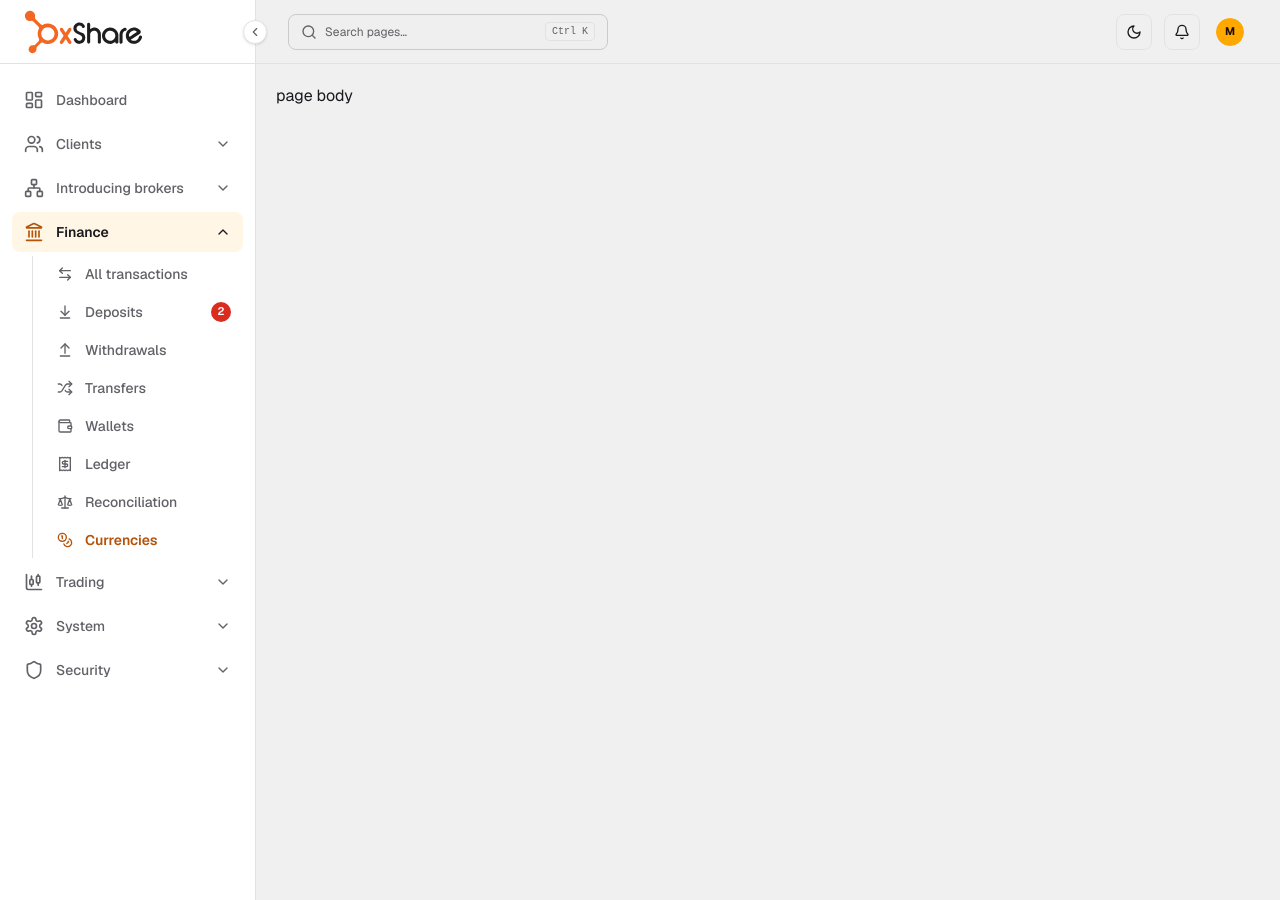
Test case: the sidebar is main items with sub-items › turns each group into a menu on the collapsed rail
Click the button named "collapse the sidebar": click(255, 32) 243,20 -> 267,44
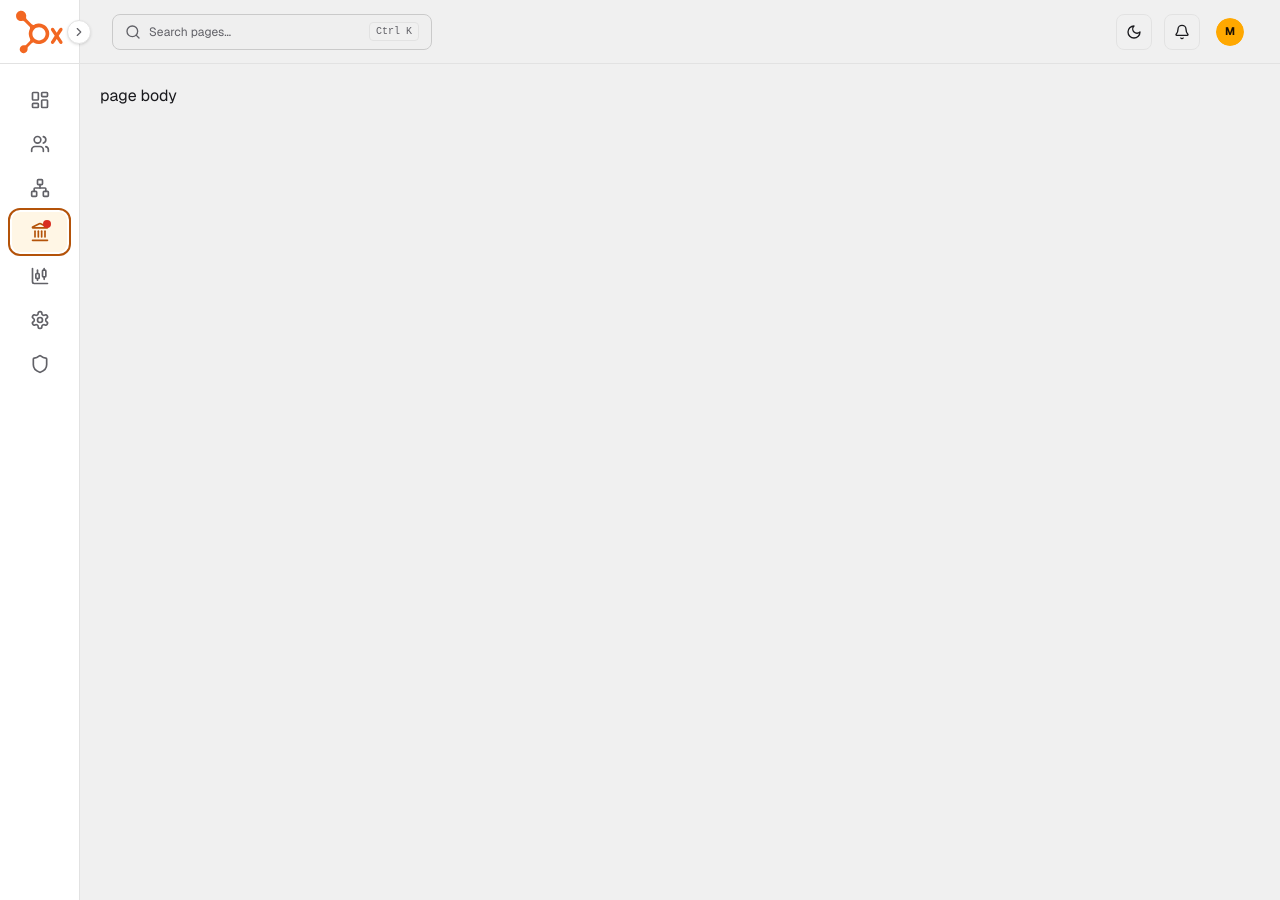
Result: the link "Deposits" is gone
Press Enter
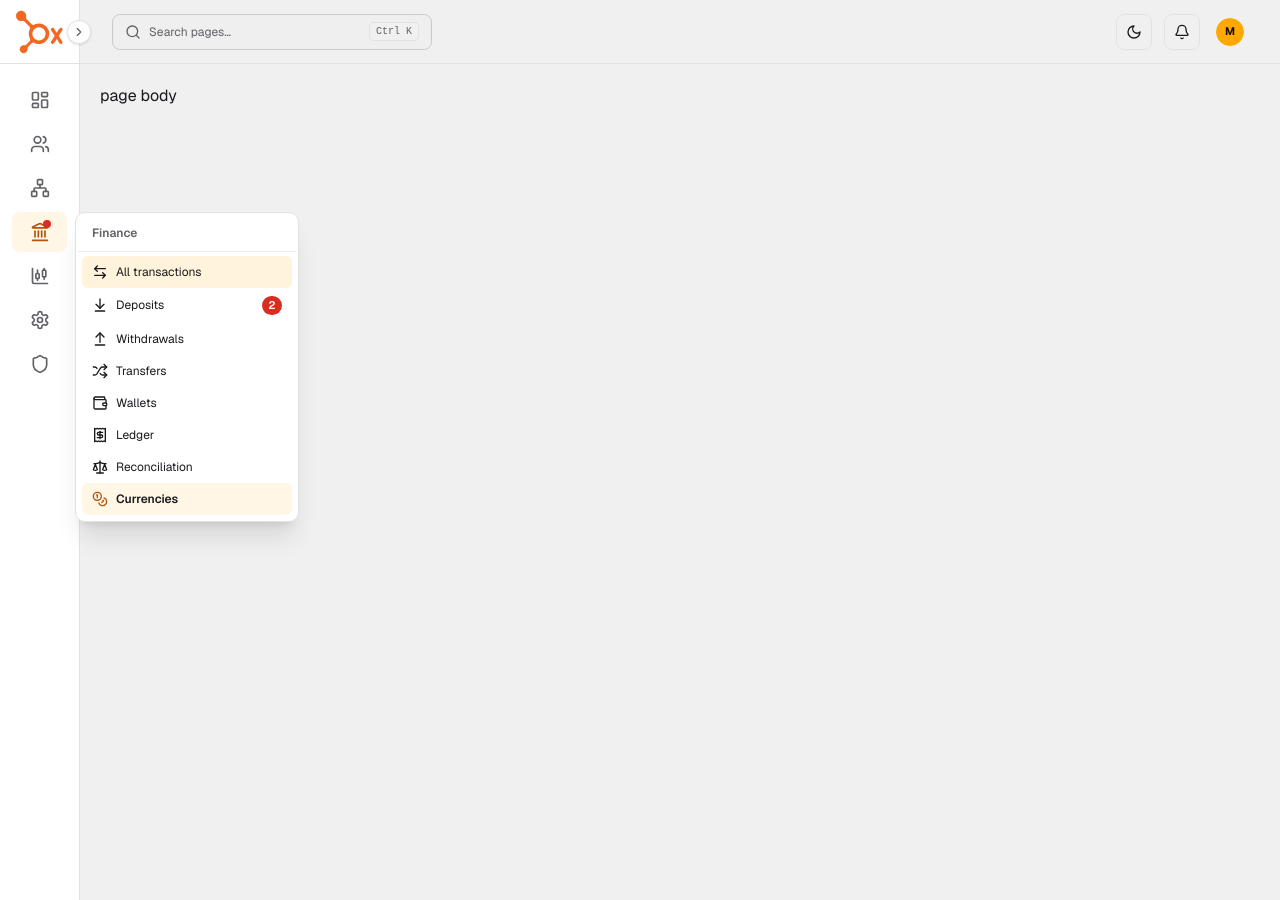
Result: the text "2" is shown at 262,296 -> 282,315
